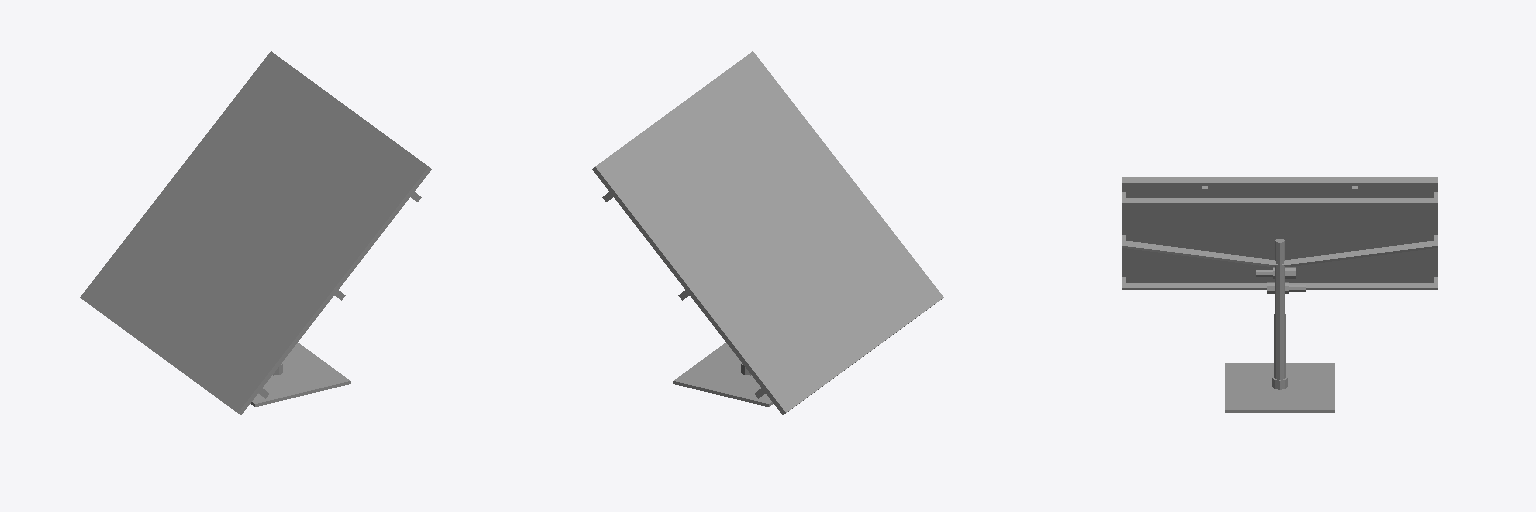
File: Cartoon Low pOly Solar Panel.obj
The picture shows the model from 3 angles: view 1: azimuth 30°, elevation 25°; view 2: azimuth 150°, elevation 25°; view 3: azimuth 270°, elevation 25°; orthographic projection.
Visible parts, largest first — view 1: Plane.003, Cylinder; view 2: Plane.003, Cylinder; view 3: Plane.003, Cylinder.
Boxes of the visible parts, <box> form: Plane.003: <box>80,51,431,414</box>; Cylinder: <box>251,343,350,406</box>; Plane.003: <box>592,51,943,414</box>; Cylinder: <box>673,343,772,406</box>; Plane.003: <box>1122,177,1437,289</box>; Cylinder: <box>1225,239,1334,412</box>.
Bounding box in the file's own units: 251 × 307 × 353.